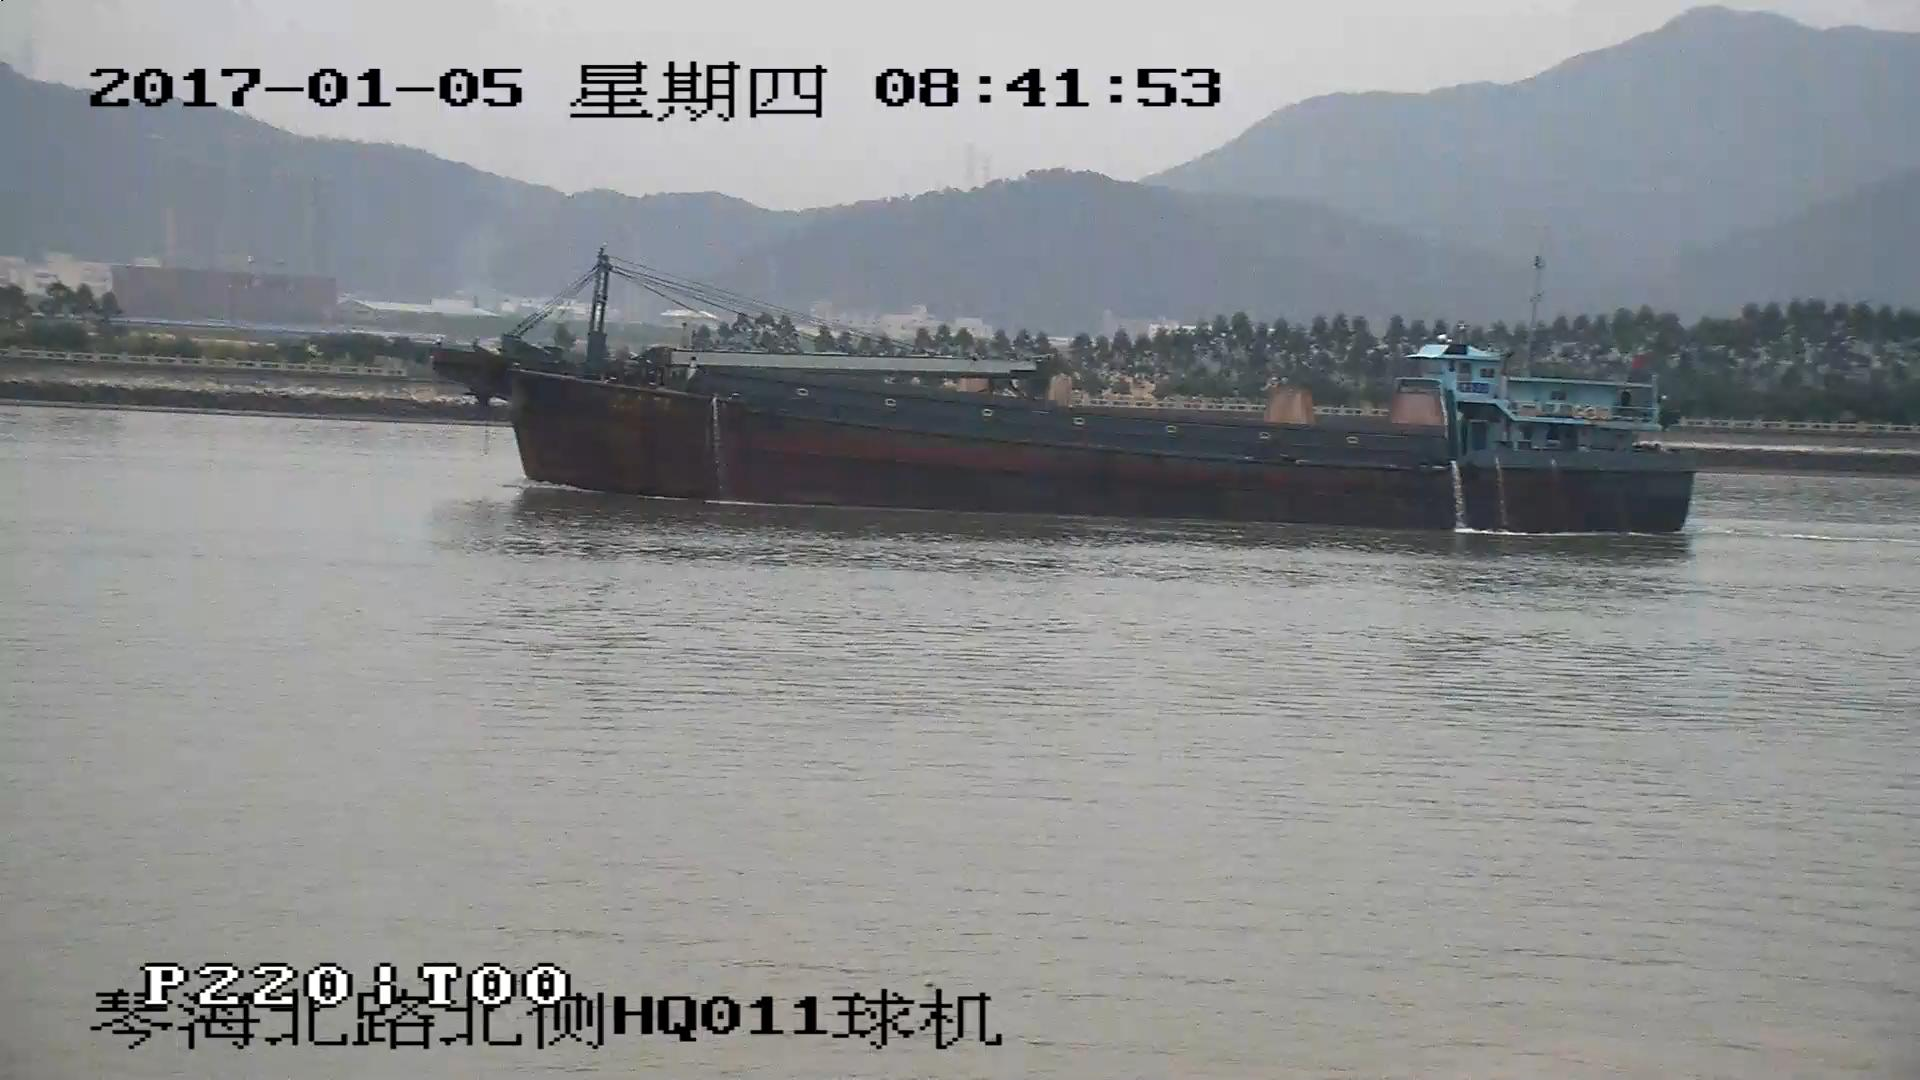bulk cargo carrier: (431, 257, 1694, 532)
